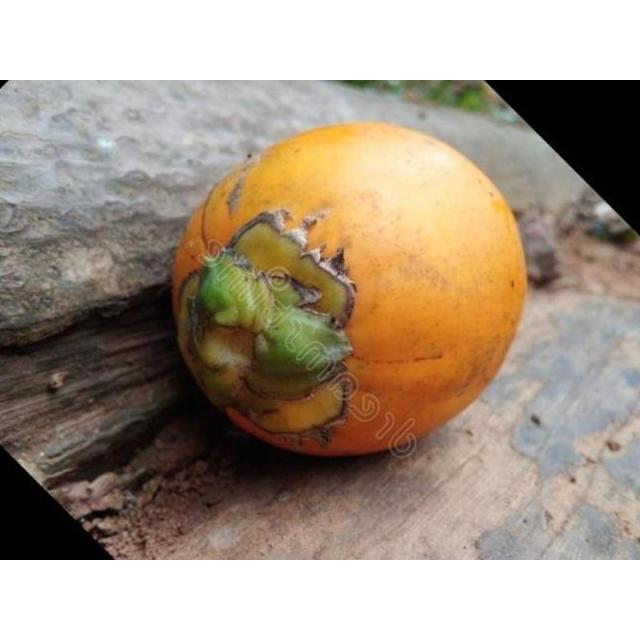good: (169, 121, 528, 459)
